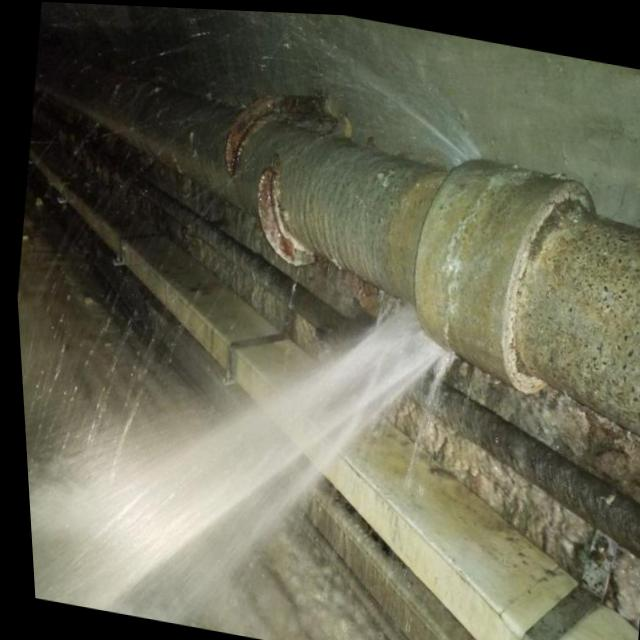leak: (29, 284, 468, 630), (153, 7, 488, 188)
